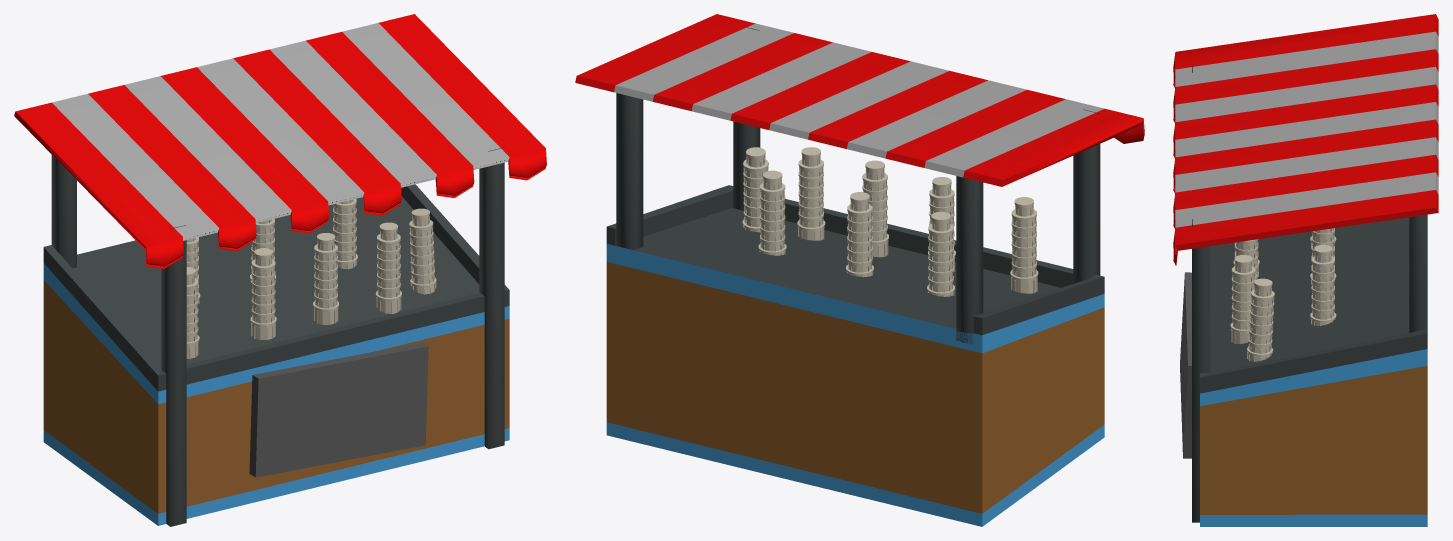
Rendered from Street_Stend_Pisa.fbx.
The picture shows the model from 3 angles, left to right: view 1: azimuth 30°, elevation 25°; view 2: azimuth 150°, elevation 25°; view 3: azimuth 270°, elevation 25°; orthographic projection. The views are drawn at different scales.
Parts seen in each view (by area): view 1: Street_Stend_Pisa; view 2: Street_Stend_Pisa; view 3: Street_Stend_Pisa.
Boxes of the visible parts, box(x1,y1,x2,y2) form: Street_Stend_Pisa: box(14, 14, 546, 526); Street_Stend_Pisa: box(575, 14, 1144, 526); Street_Stend_Pisa: box(1173, 14, 1438, 526).
Size of the model in its own units: 3 by 2.39 by 1.74.
